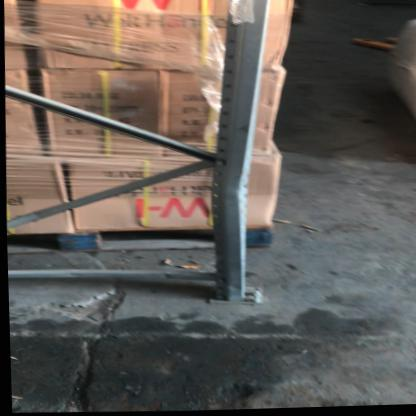vertical_damage: (213, 154, 257, 219)
